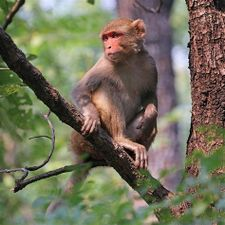monkey: (62, 20, 192, 177)
